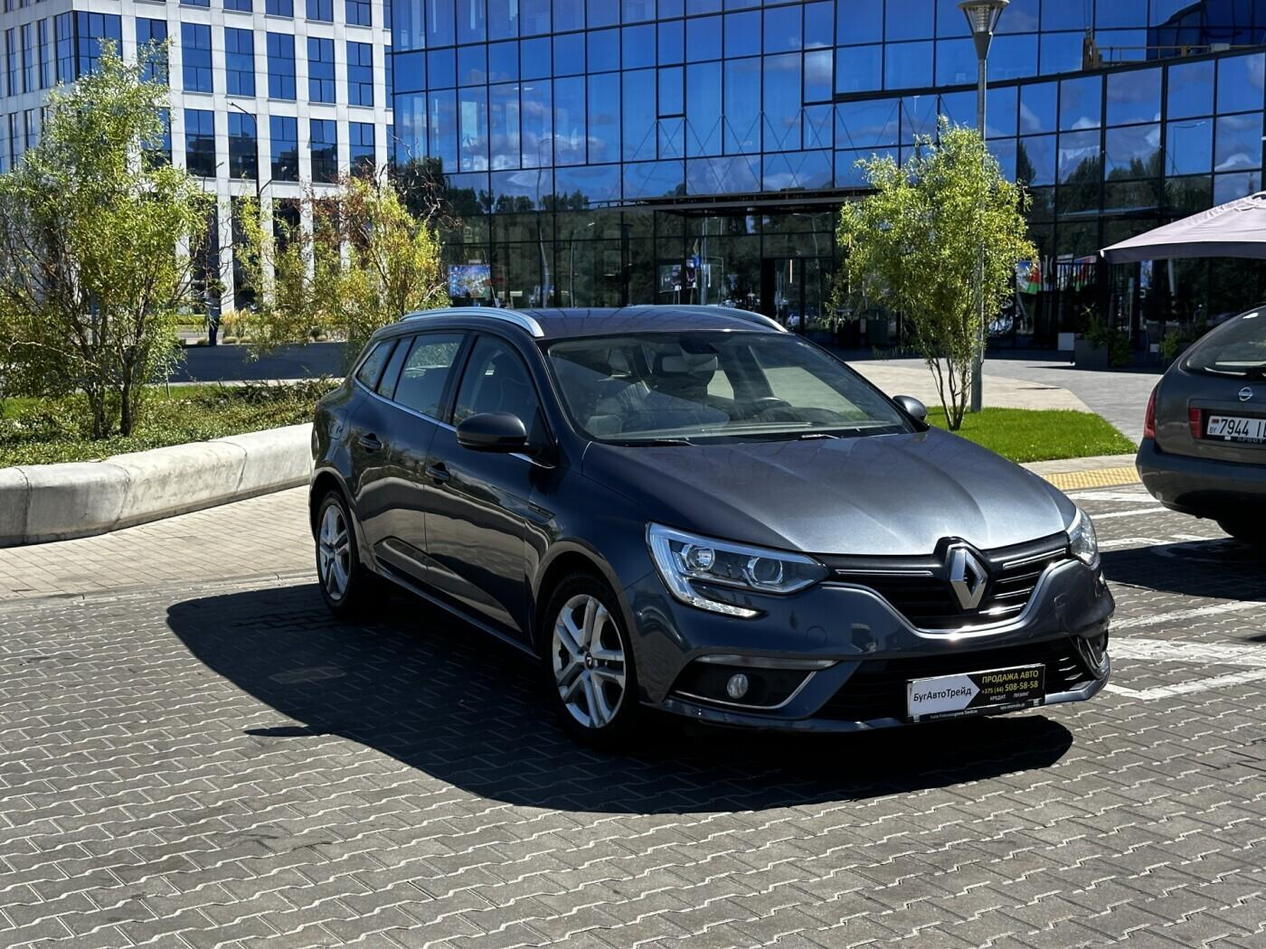Megane_2016-2020: (306, 298, 1129, 758)
